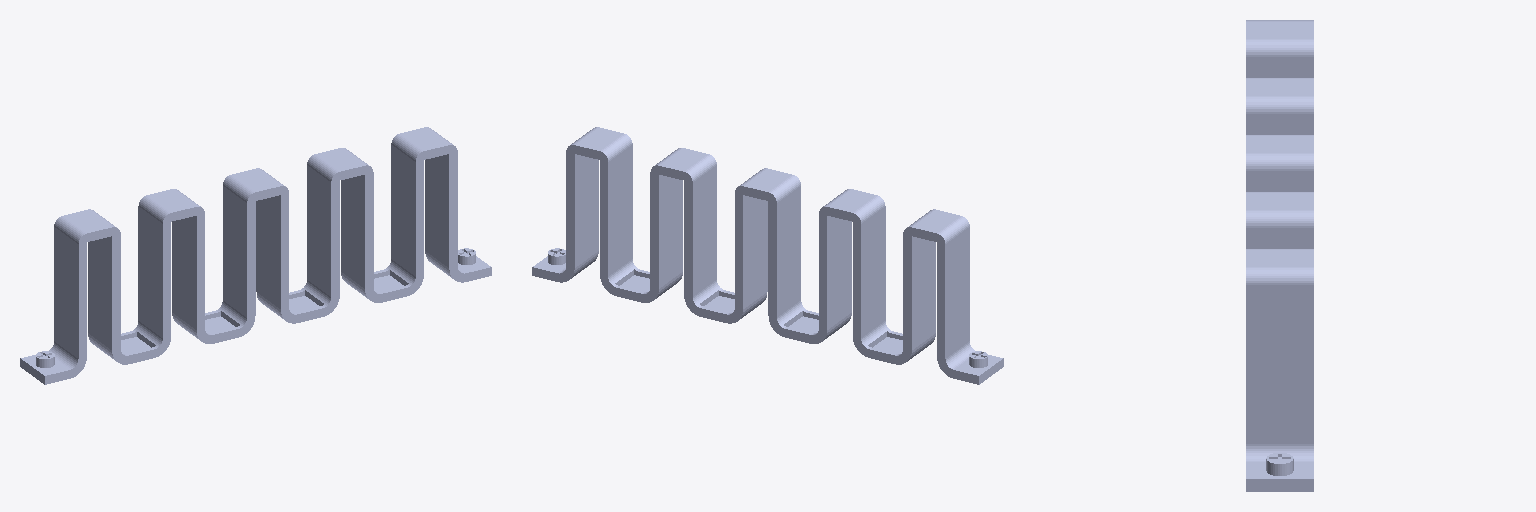
The robot description file, URDF, robot "storage_port":
<?xml version="1.0" encoding="utf-8"?>
<!-- This URDF was automatically created by SolidWorks to URDF Exporter! Originally created by [author] ([email redacted]) 
     Commit Version: 1.6.0-4-g7f85cfe  Build Version: 1.6.7995.38578
     For more information, please see http://wiki.ros.org/sw_urdf_exporter -->
<robot
  name="storage_port">
  <link
    name="base_link">
    <inertial>
      <origin
        xyz="1.3462 -2.7756E-17 0.39994"
        rpy="0 0 0" />
      <mass
        value="10.9" />
      <inertia
        ixx="9.1564"
        ixy="2.2091E-15"
        ixz="3.3494E-14"
        iyy="78.12"
        iyz="-5.1174E-16"
        izz="70.305" />
    </inertial>
    <visual>
      <origin
        xyz="0 0 0"
        rpy="0 0 0" />
      <geometry>
        <mesh
          filename="package://solidworks2ros_try25/meshes/storage_port.STL" />
      </geometry>
      <material
        name="">
        <color
          rgba="0.79216 0.81961 0.93333 1" />
      </material>
    </visual>
    <collision>
      <origin
        xyz="0 0 0"
        rpy="0 0 0" />
      <geometry>
        <mesh
          filename="package://solidworks2ros_try25/meshes/storage_port.STL" />
      </geometry>
    </collision>
  </link>

  <gazebo reference="base_link" >
        <material>Gazebo/Gray</material>
  </gazebo>

</robot>

--- Render facts (derived) ---
3 views of the same robot in one strip: view 1: azimuth 30°, elevation 25°; view 2: azimuth 150°, elevation 25°; view 3: azimuth 270°, elevation 25° (orthographic).
Robot: storage_port — 1 links, 0 joints (none); root link base_link; default pose: all joints at 0.
Links seen in each view (by area): view 1: base_link; view 2: base_link; view 3: base_link.
Boxes of the visible links, box(x1,y1,x2,y2) form: base_link: box(20, 127, 491, 384); base_link: box(532, 127, 1003, 384); base_link: box(1246, 20, 1313, 491).
Bounding box of the posed robot: 2.69 × 0.254 × 0.8128 m (x, y, z).
1 mesh visuals loaded from 1 distinct referenced files (1 binary STL).